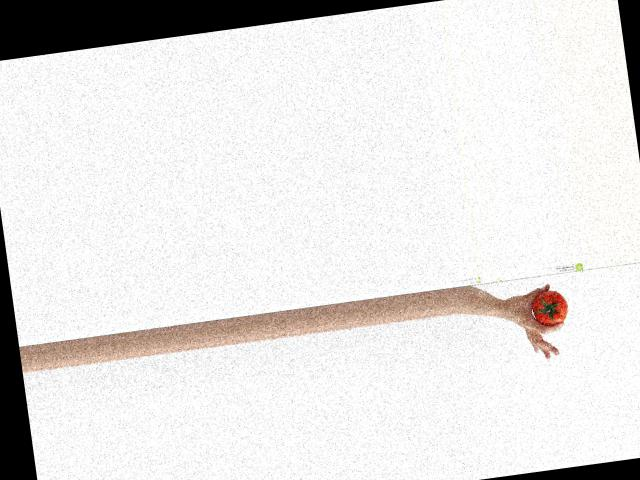tomato: (530, 288, 569, 327)
